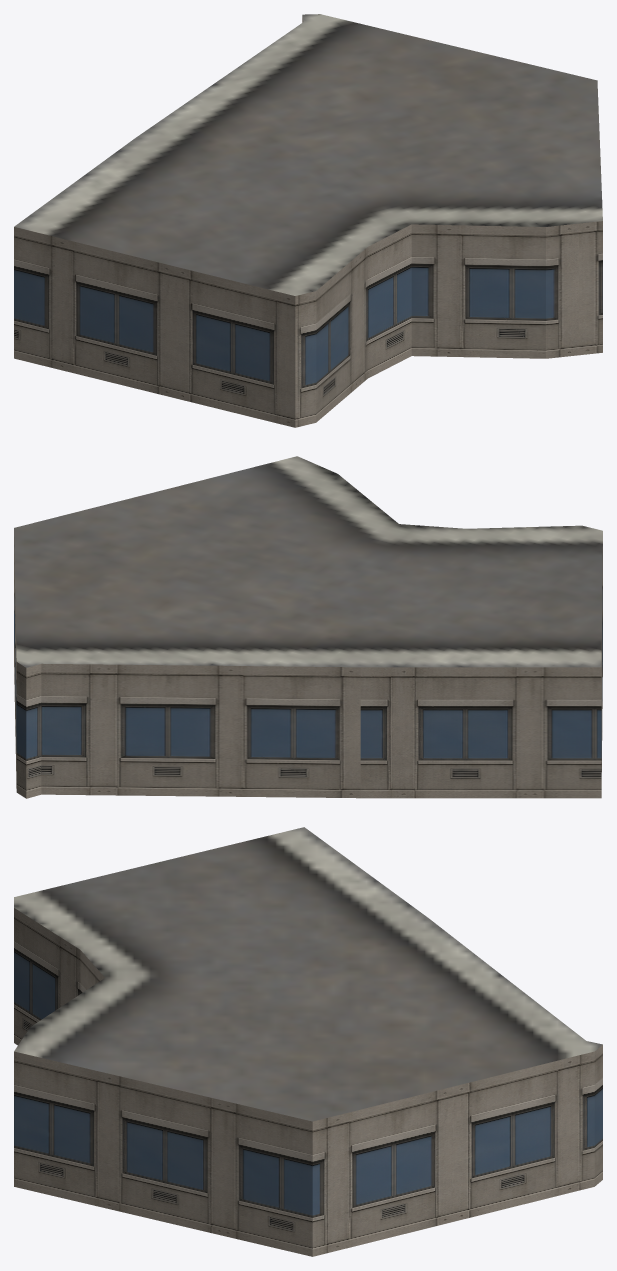
The model's file is building_light_22.glb.
The picture shows the model from 3 angles, top to bottom: view 1: azimuth 30°, elevation 25°; view 2: azimuth 150°, elevation 25°; view 3: azimuth 270°, elevation 25°; orthographic projection. The views are drawn at different scales.
Parts seen in each view (by area): view 1: buildings/saxarba/building_light/building_light_22; view 2: buildings/saxarba/building_light/building_light_22; view 3: buildings/saxarba/building_light/building_light_22.
Boxes of the visible parts, box(x1,y1,x2,y2) form: buildings/saxarba/building_light/building_light_22: box(14, 14, 602, 427); buildings/saxarba/building_light/building_light_22: box(14, 456, 602, 798); buildings/saxarba/building_light/building_light_22: box(14, 827, 602, 1256).
Bounding box in the file's own units: 84 × 18 × 71.
